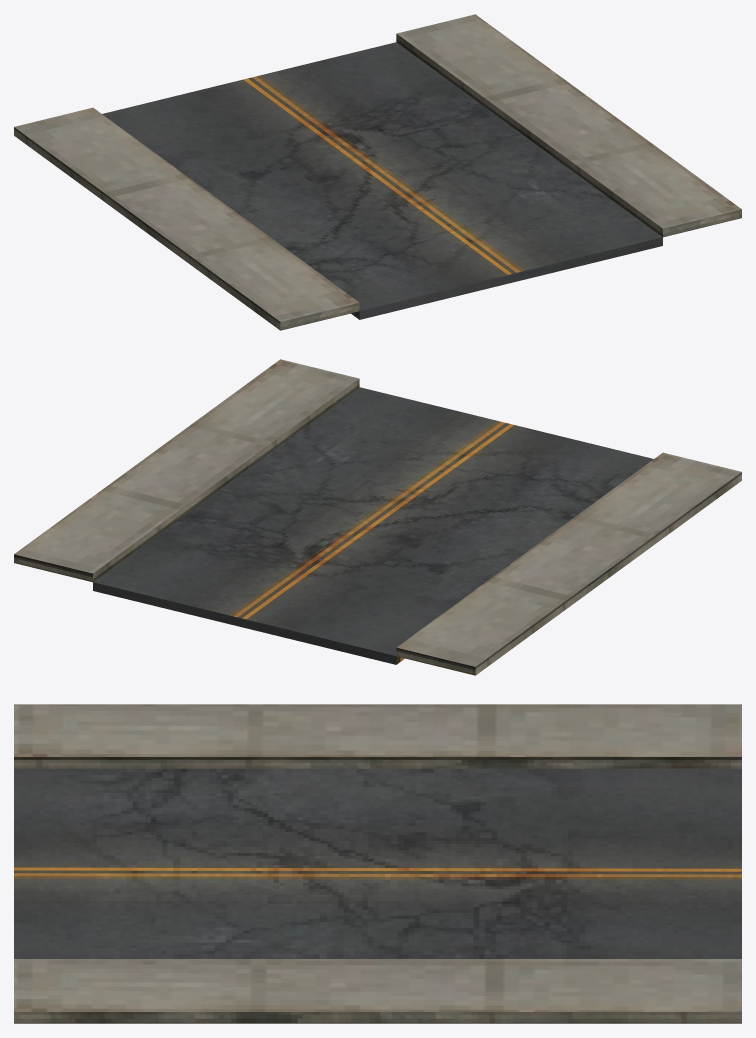
Rendered from Road.glb.
3 views of the same model, one above another, from view 1: azimuth 30°, elevation 25°; view 2: azimuth 150°, elevation 25°; view 3: azimuth 270°, elevation 25° (orthographic). The views are drawn at different scales.
Parts seen in each view (by area): view 1: Cube; view 2: Cube; view 3: Cube.
Boxes of the visible parts, bbox=[...] form: Cube: bbox=[14, 14, 741, 330]; Cube: bbox=[14, 359, 741, 675]; Cube: bbox=[14, 704, 741, 1023].
Size of the model in its own units: 6.36 by 0.2285 by 6.36.
1 material, 1 textured.
